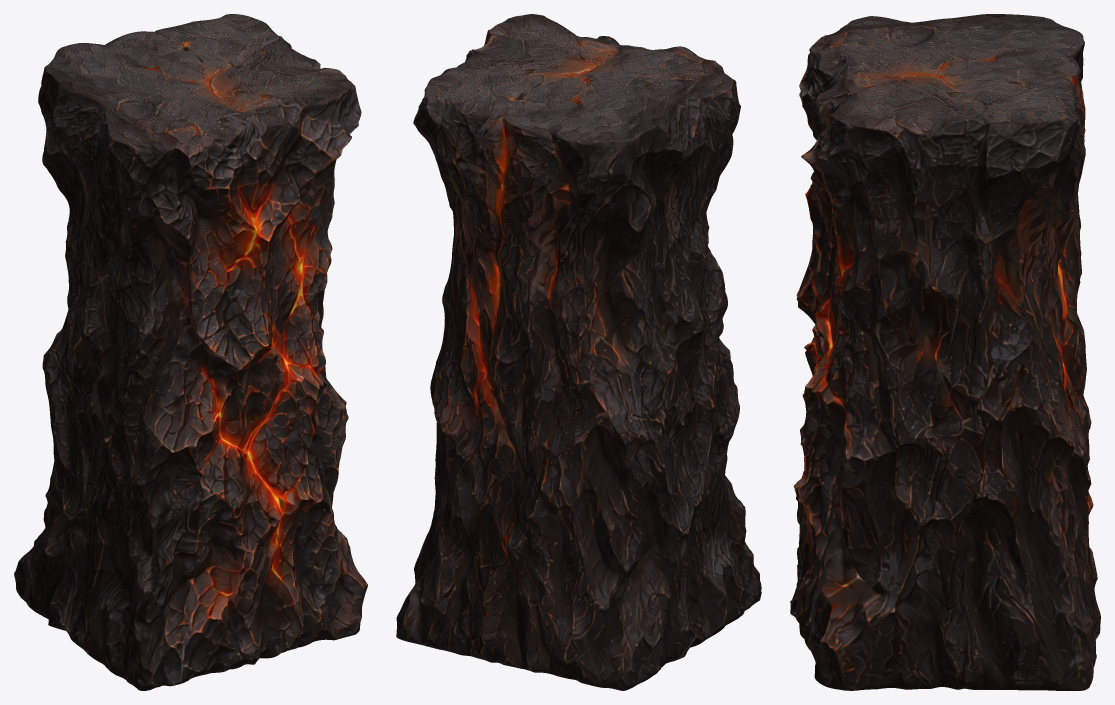
Rendered from Lava_Pillar.fbx.
3 renders of one model, left to right at view 1: azimuth 30°, elevation 25°; view 2: azimuth 150°, elevation 25°; view 3: azimuth 270°, elevation 25°, orthographic. The views are drawn at different scales.
Parts seen in each view (by area): view 1: model; view 2: model; view 3: model.
Part boxes in pixels (<box>): model: <box>14,14,367,690</box>; model: <box>396,14,761,690</box>; model: <box>790,14,1100,690</box>.
Size of the model in its own units: 92.7 by 190 by 94.25.
Materials: 1 (1 with a texture image).
